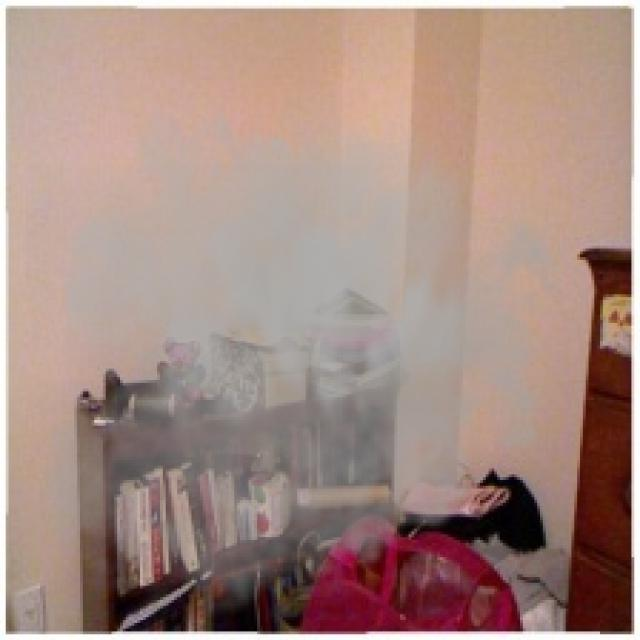smoke: (26, 66, 580, 631)
